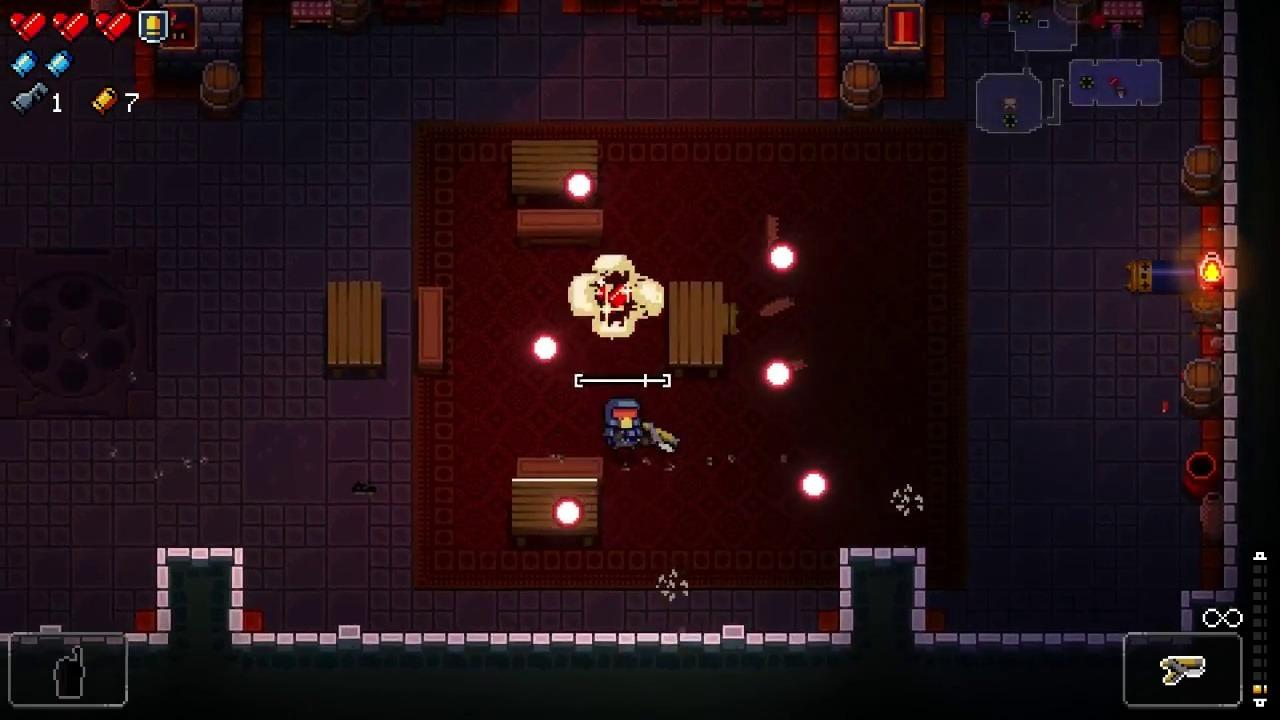bullet: (763, 359, 794, 392), (799, 469, 830, 501), (768, 241, 799, 273), (565, 168, 594, 202), (553, 496, 583, 527), (530, 334, 561, 362)
dead_blue_shotgun_kin: (1124, 260, 1200, 295)
health: (596, 282, 633, 312)
player: (605, 397, 643, 450)
table: (511, 478, 597, 547), (327, 281, 383, 379), (511, 140, 598, 203), (669, 281, 723, 379)
teleporter: (0, 248, 157, 420)
